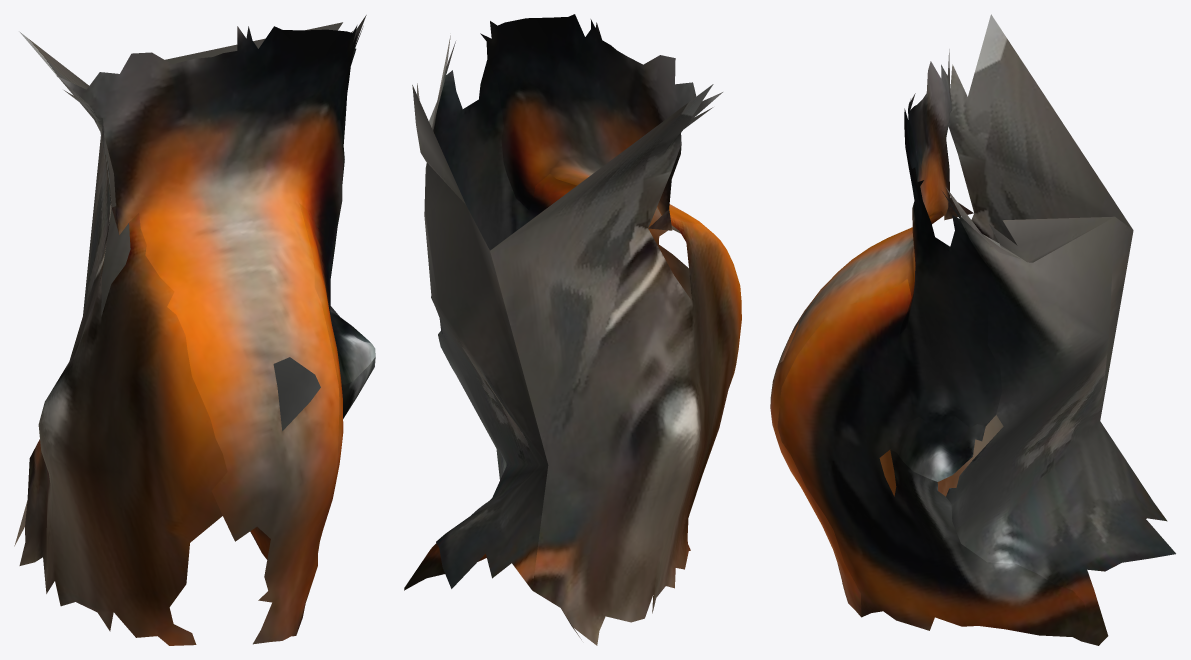
File: rear_right_caster.dae
The picture shows the model from 3 angles, left to right: view 1: azimuth 30°, elevation 25°; view 2: azimuth 150°, elevation 25°; view 3: azimuth 270°, elevation 25°; orthographic projection. The views are drawn at different scales.
Visible parts, largest first — view 1: rear_right_caster; view 2: rear_right_caster; view 3: rear_right_caster.
Part boxes in pixels (box(x1,y1,x2,y2)): rear_right_caster: box(14, 15, 375, 645); rear_right_caster: box(404, 14, 741, 645); rear_right_caster: box(770, 14, 1175, 645).
Size of the model in its own units: 0.0585 by 0.0713 by 0.1004.
1 material, 1 textured.
